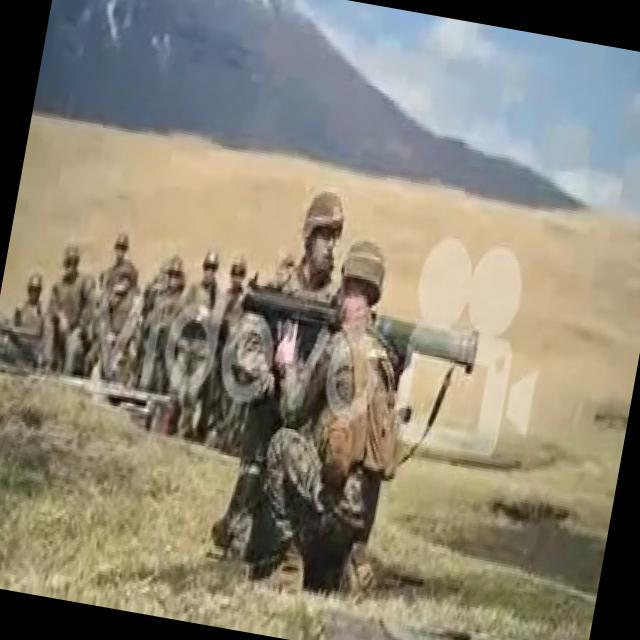rocket: (239, 276, 484, 373)
